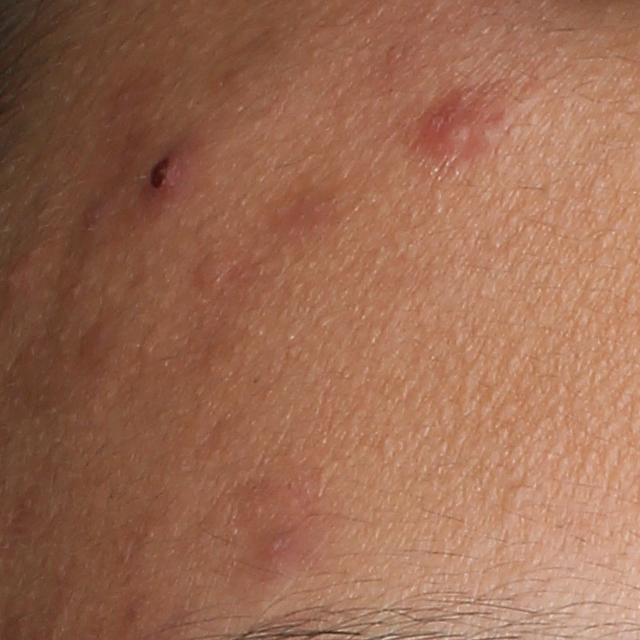comedo: (506, 485, 528, 512)
papule: (139, 147, 193, 204), (436, 107, 492, 151), (3, 253, 30, 305)
